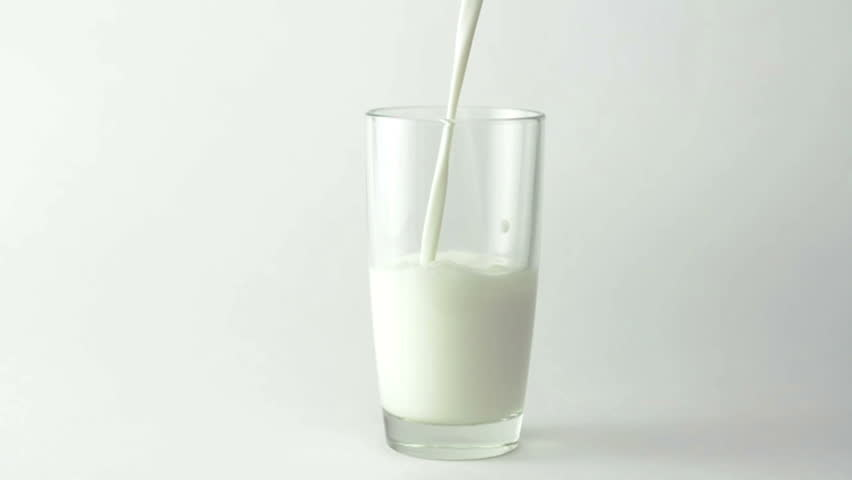glass of milk: (356, 89, 554, 467)
